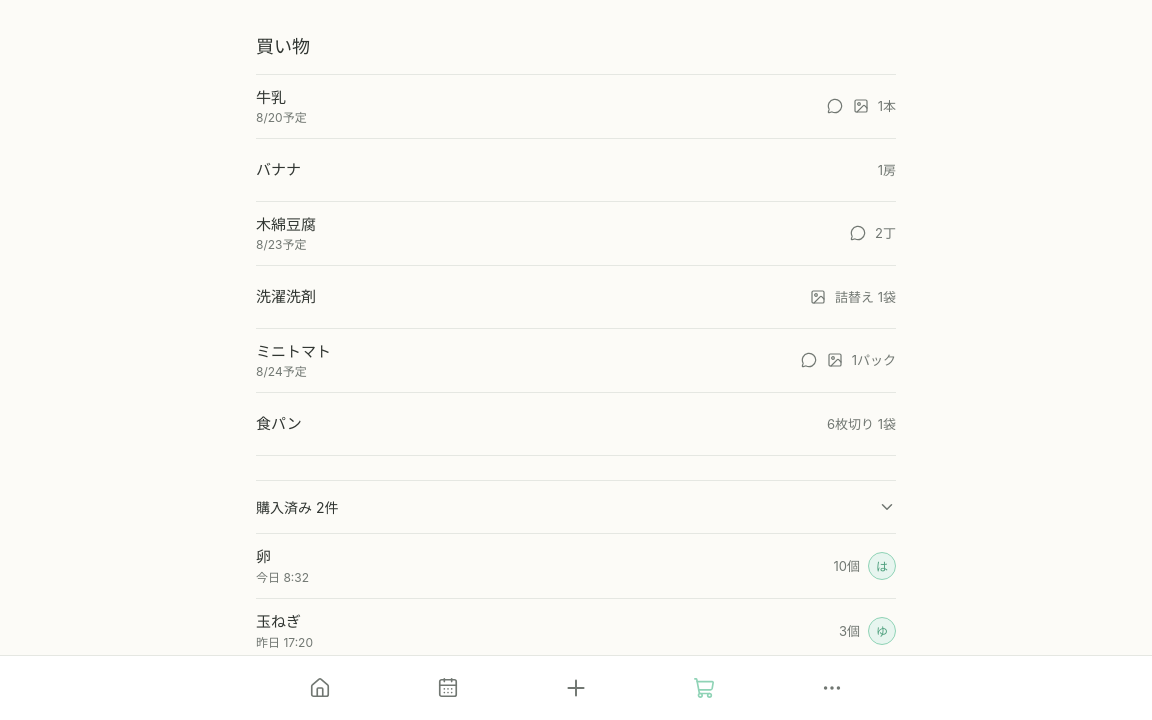
Test: ShoppingPage › preserves an already-open purchased section when purchasing an item
Click the button with class "shopping-item-row__main" showing "牛乳 8/20予定 1本" at (271, 98), box [256,75,896,138]
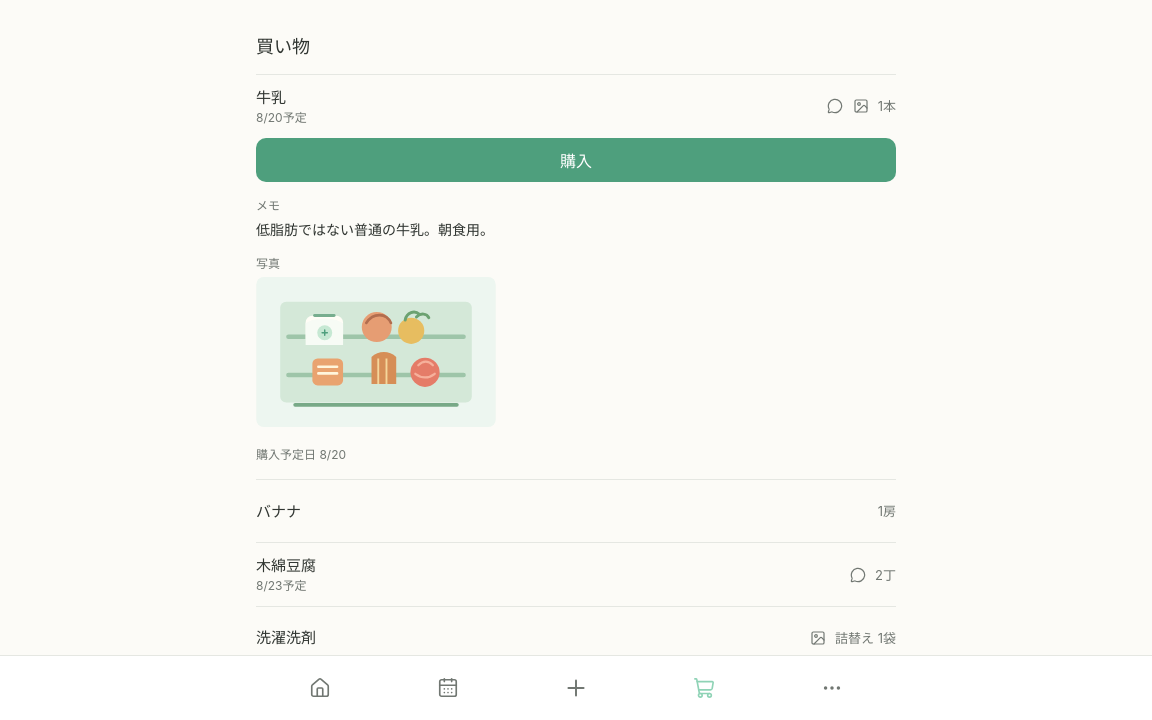
Click the button "購入" at (576, 160), box [256,138,896,182]
Wait 200 ms
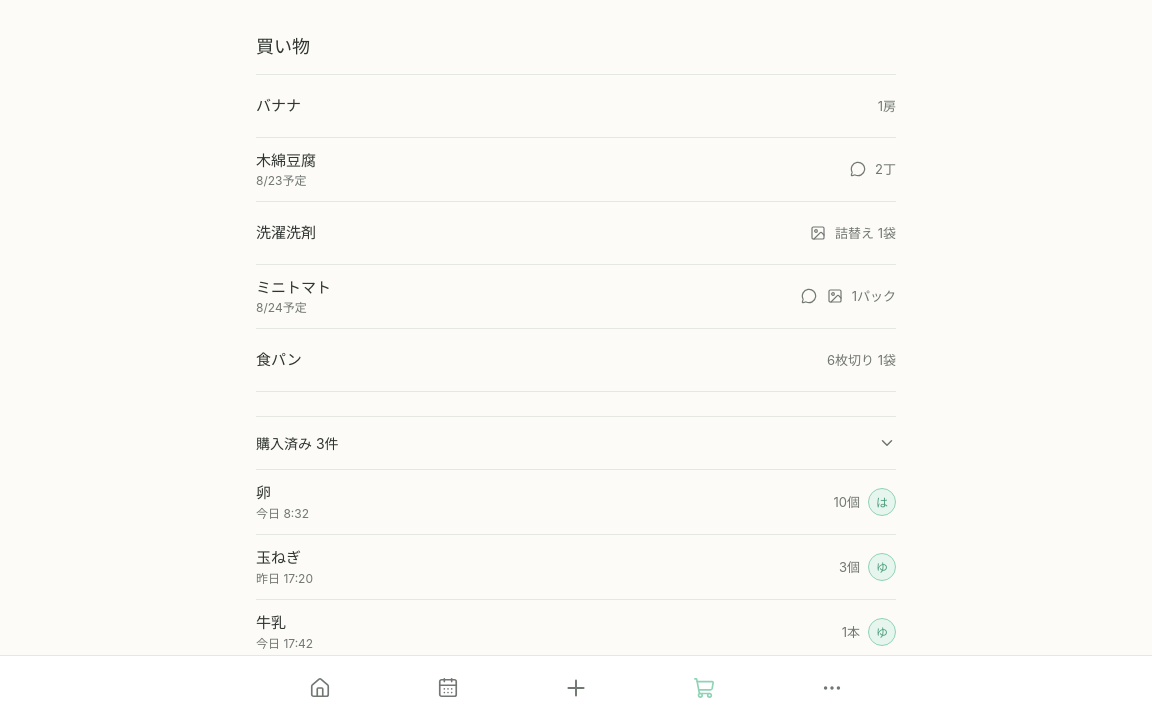
expect the text "牛乳" is shown: met, box [256,613,286,632]
expect the text "購入済み 3件" is shown: met, box [256,433,339,453]
